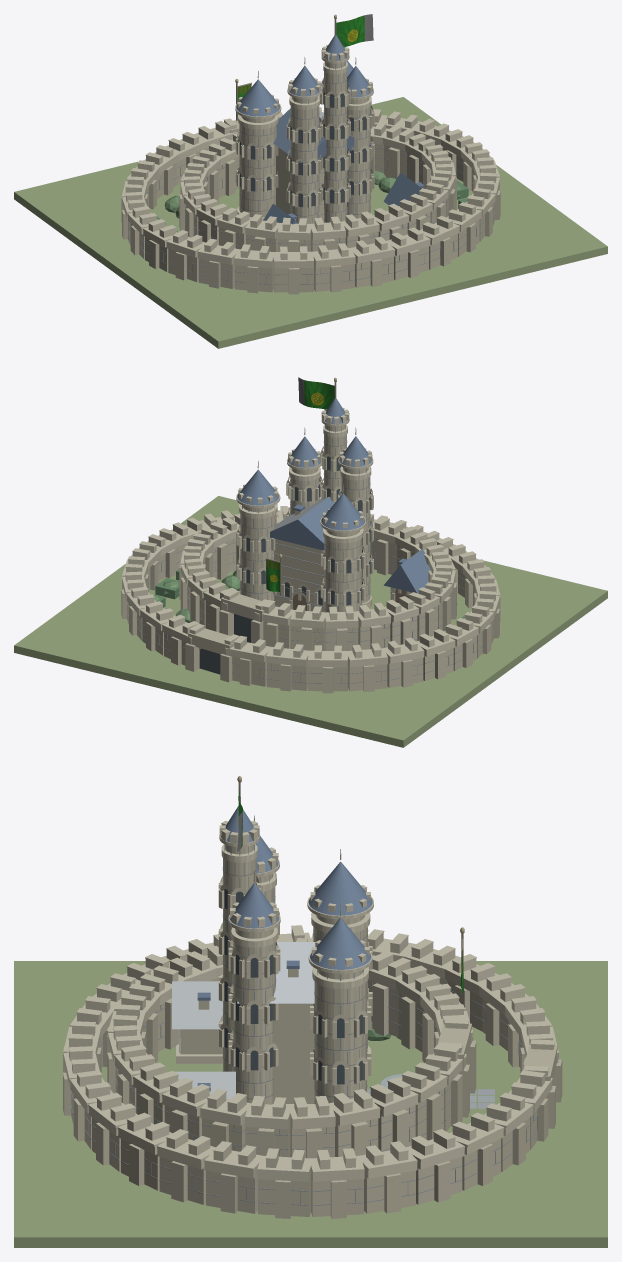
Rendered from highgarden.glb.
3 views of the same model, one above another, from view 1: azimuth 30°, elevation 25°; view 2: azimuth 150°, elevation 25°; view 3: azimuth 270°, elevation 25° (orthographic). The views are drawn at different scales.
Parts seen in each view (by area): view 1: هایگاردن; view 2: هایگاردن; view 3: هایگاردن.
Part boxes in pixels (bbox=[...]): هایگاردن: bbox=[14, 14, 607, 348]; هایگاردن: bbox=[14, 377, 607, 747]; هایگاردن: bbox=[14, 776, 607, 1247].
Size of the model in its own units: 11 by 6.2 by 10.
2 materials, 1 textured.
